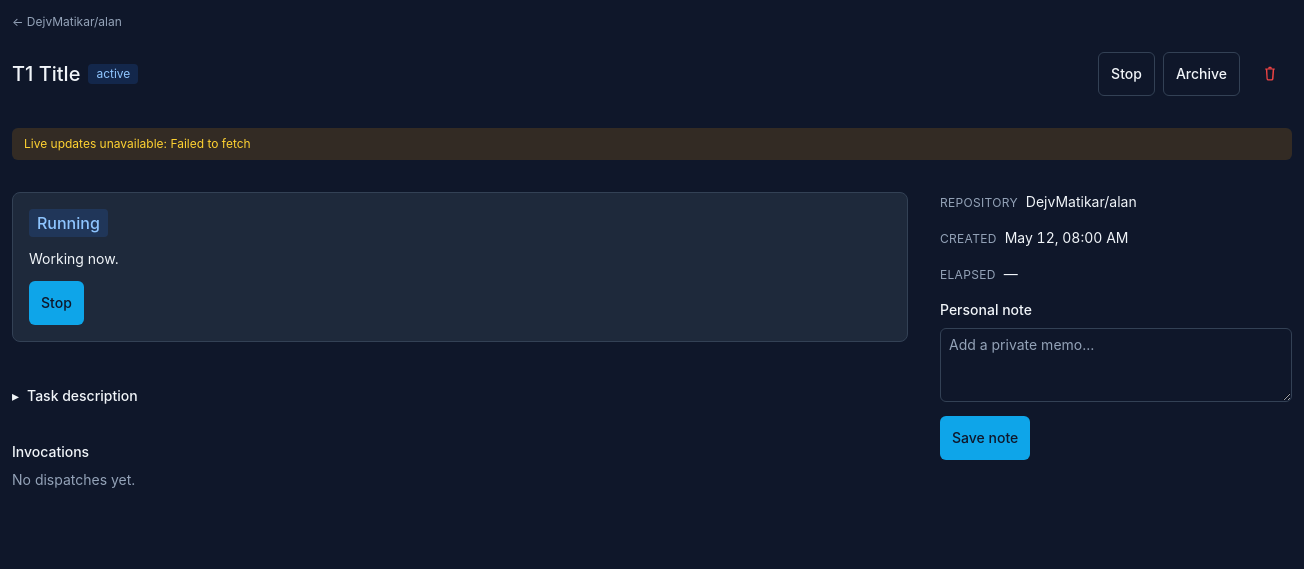
Test case: Workspace detail › surfaces a stop error and stays on the page
The image size is (1304, 569).
Step 1. Click the button with test id "stop-button" → point(1126, 74), box [1098, 52, 1155, 96]
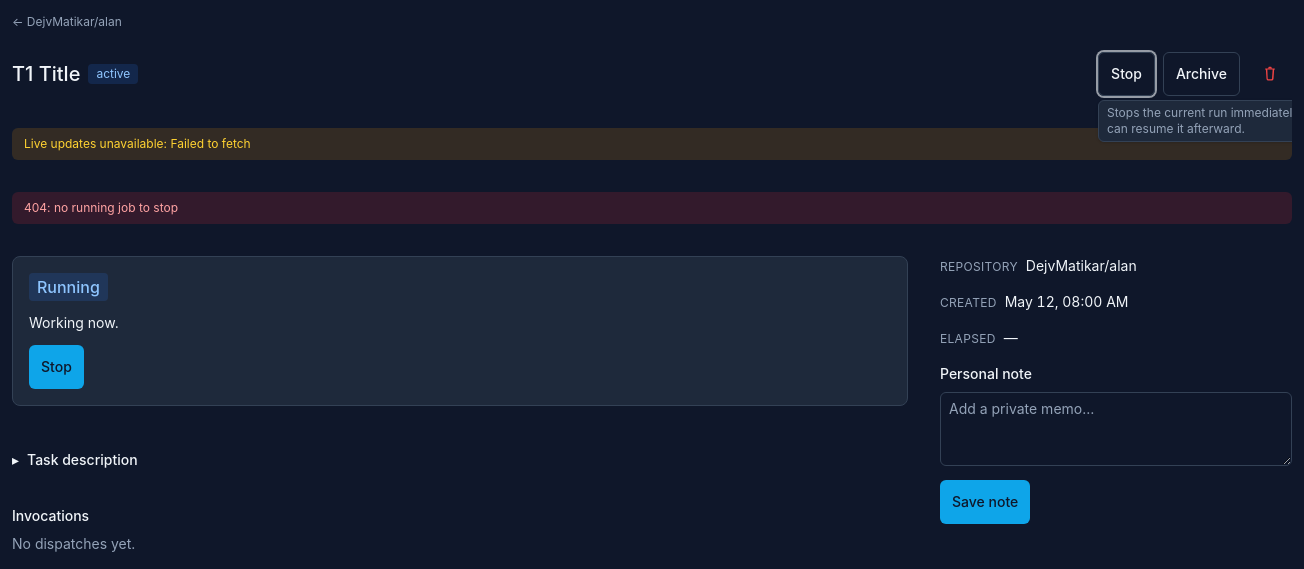
Result: the message with test id "stop-resume-error" shows "404" at [24, 200, 178, 215]
